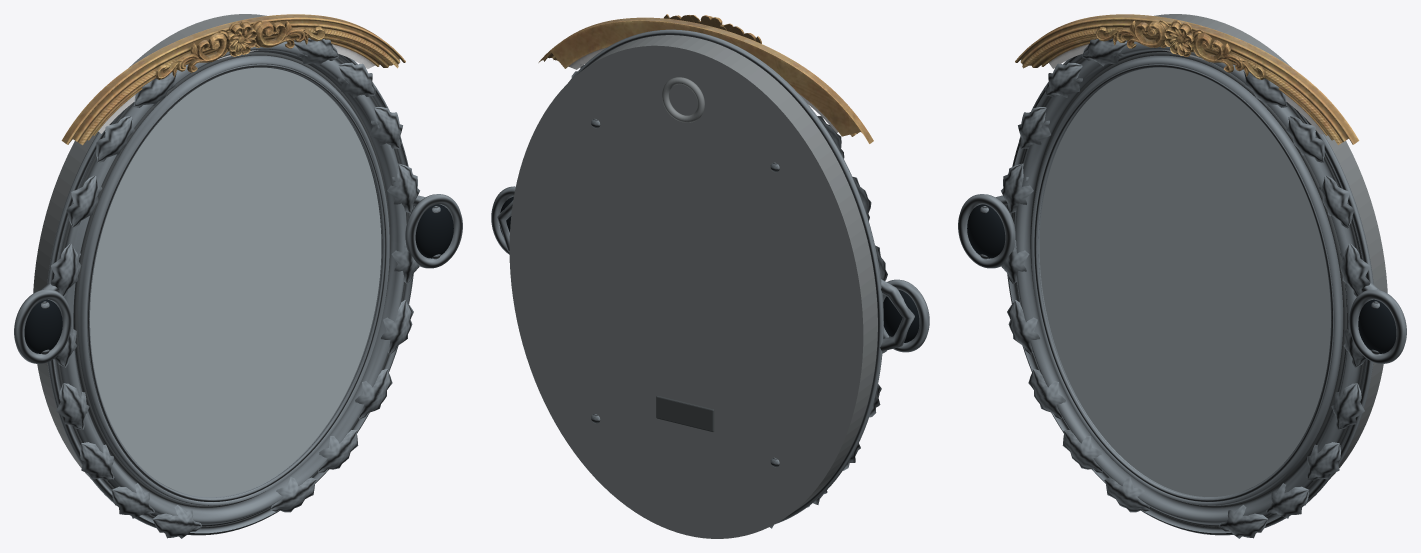
File: arrodes.glb
The picture shows the model from 3 angles, left to right: view 1: azimuth 30°, elevation 25°; view 2: azimuth 150°, elevation 25°; view 3: azimuth 330°, elevation 25°; orthographic projection. The views are drawn at different scales.
Parts seen in each view (by area): view 1: mirror_face, Chased oval silver surround, CC0 carved silver crest, Recessed ornamental band.002, Solid rear silver shell, Recessed ornamental band, Recessed ornamental band.003, Cabochon bezel, Cabochon bezel.001, black_eye_-1, black_eye_1, Repousse acanthus leaf.006 (+17 smaller); view 2: Solid rear silver shell, CC0 carved silver crest, Recessed ornamental band.003, Rear maker plate, Cabochon bezel, Eye scroll mount, black_eye_-1, Rear hanging ring, Cabochon bezel.001; view 3: mirror_face, Chased oval silver surround, CC0 carved silver crest, Recessed ornamental band.002, Solid rear silver shell, Recessed ornamental band, Recessed ornamental band.003, Cabochon bezel.001, Cabochon bezel, black_eye_1, black_eye_-1, Repousse acanthus leaf.015 (+17 smaller).
Part boxes in pixels (box(x1,y1,x2,y2)): mirror_face: box(90, 67, 381, 496); Chased oval silver surround: box(54, 41, 411, 533); CC0 carved silver crest: box(61, 14, 405, 145); Recessed ornamental band.002: box(87, 64, 386, 501); Solid rear silver shell: box(33, 14, 338, 489); Recessed ornamental band: box(74, 52, 390, 507); Recessed ornamental band.003: box(47, 55, 414, 535); Cabochon bezel: box(14, 289, 71, 363); Cabochon bezel.001: box(405, 194, 462, 268); black_eye_-1: box(24, 299, 62, 353); black_eye_1: box(415, 204, 453, 258); Repousse acanthus leaf.006: box(66, 175, 102, 228); Solid rear silver shell: box(509, 35, 877, 538); CC0 carved silver crest: box(538, 14, 873, 143); Recessed ornamental band.003: box(568, 29, 883, 524); Rear maker plate: box(656, 395, 714, 431); Cabochon bezel: box(882, 279, 929, 352); Eye scroll mount: box(880, 279, 914, 351); black_eye_-1: box(883, 289, 919, 342); Rear hanging ring: box(662, 77, 704, 122); Cabochon bezel.001: box(491, 186, 515, 254); mirror_face: box(1039, 67, 1330, 496); Chased oval silver surround: box(1009, 41, 1366, 533); CC0 carved silver crest: box(1015, 14, 1359, 145); Recessed ornamental band.002: box(1034, 64, 1333, 501); Solid rear silver shell: box(1082, 14, 1387, 489); Recessed ornamental band: box(1030, 52, 1346, 507); Recessed ornamental band.003: box(1006, 55, 1373, 535); Cabochon bezel.001: box(1349, 289, 1406, 363); Cabochon bezel: box(958, 194, 1015, 268); black_eye_1: box(1358, 299, 1396, 353); black_eye_-1: box(967, 204, 1005, 258); Repousse acanthus leaf.015: box(1318, 175, 1354, 228).
Bounding box in the file's own units: 3.41 × 3.76 × 0.47.
6 materials, 2 textured.
